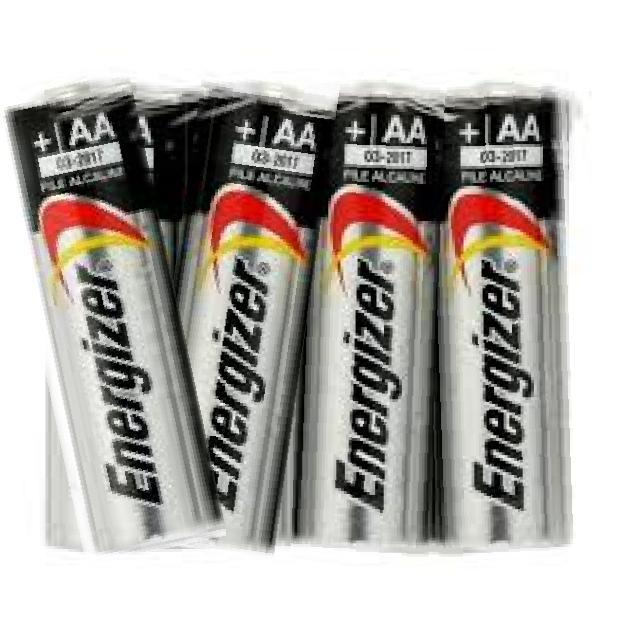Battery: (0, 74, 231, 547), (431, 77, 578, 558), (291, 84, 434, 563), (186, 102, 331, 550)
